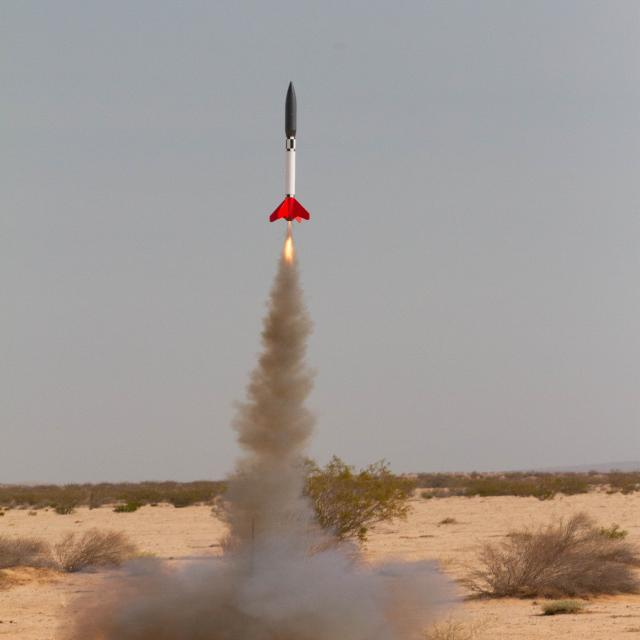Rocket: (269, 80, 311, 224)
